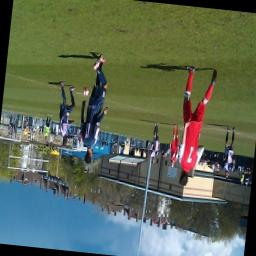football: (82, 86, 90, 98)
